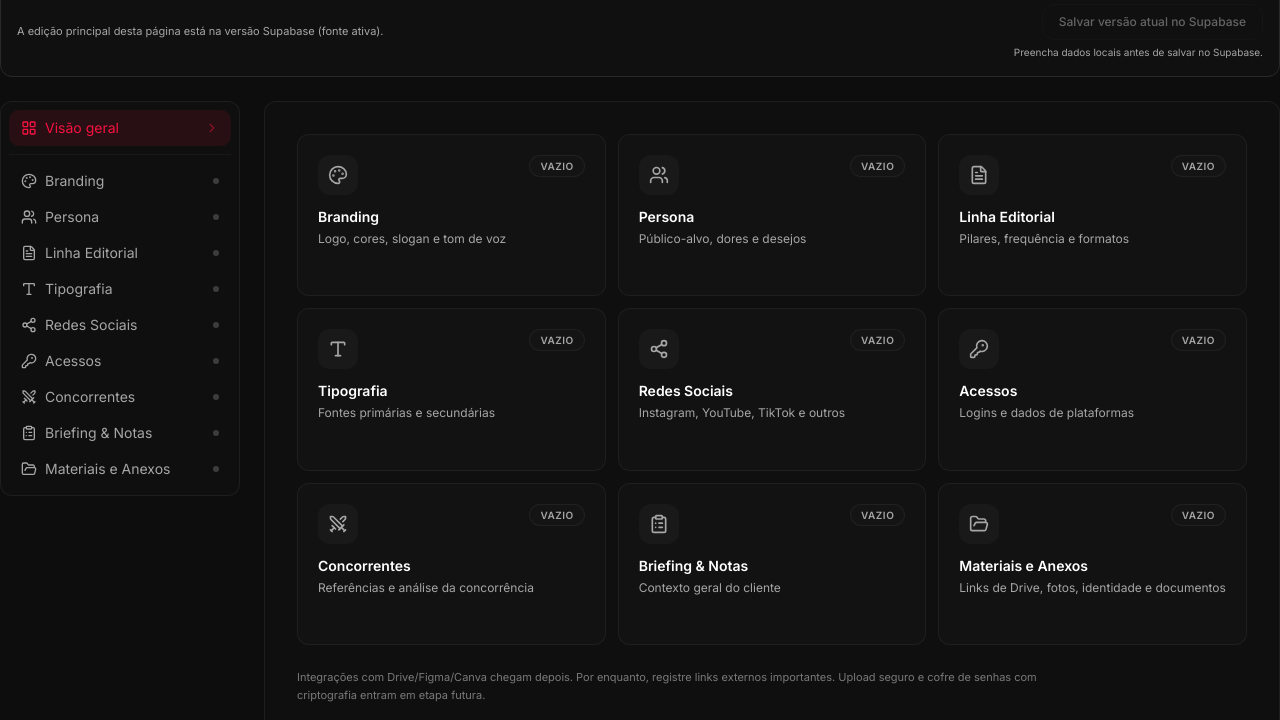
Test case: ClientTechnicalSheet — G82 (cliente só-nuvem, id uuid) › [FP2] seção Acessos avisa que os acessos ficam só neste dispositivo; salvar um acesso grava no armazenamento LOCAL e a senha/`accesses` nunca vão no payload
(page scrolled)
Step 1. Click the button "Acessos" → x=120, y=361, box x1=9 y1=343 x2=231 y2=379
(page scrolled)
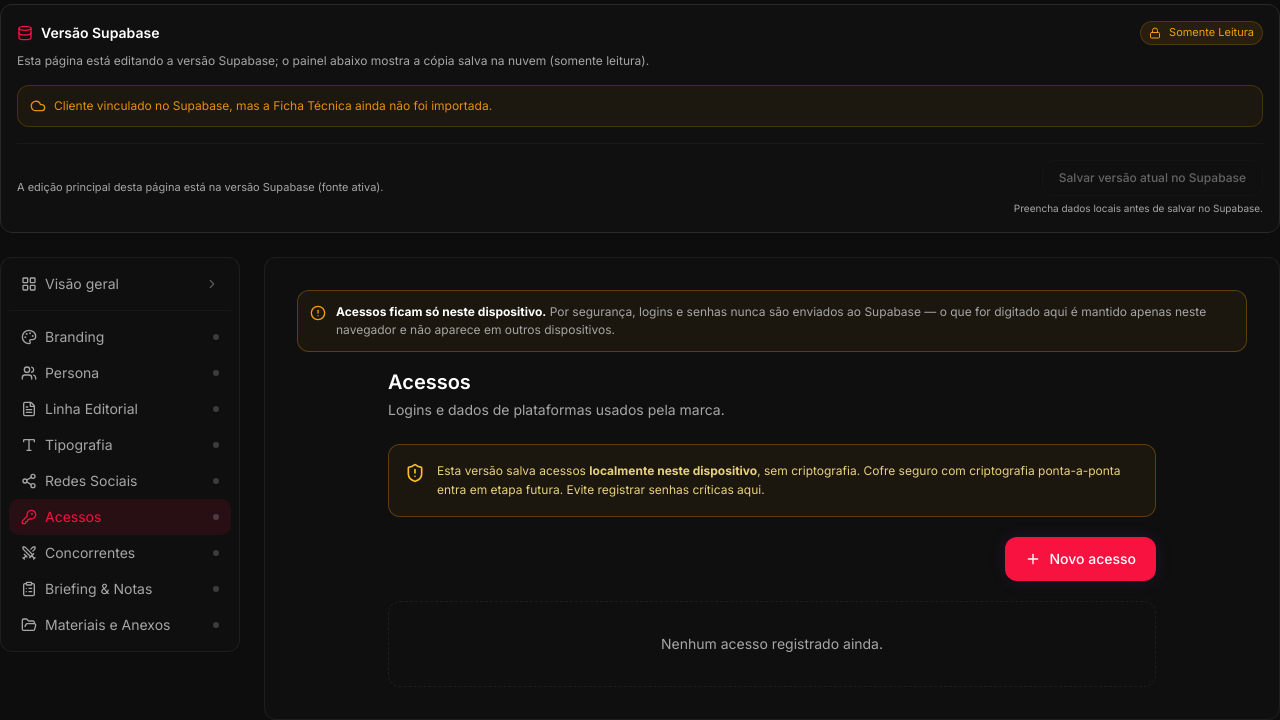
Result: the element that starts with "Acessos ficam só neste dispositivo." is shown at x1=336 y1=304 x2=546 y2=319
Step 2. Click the button "Novo acesso" → x=1081, y=559, box x1=1006 y1=537 x2=1156 y2=581
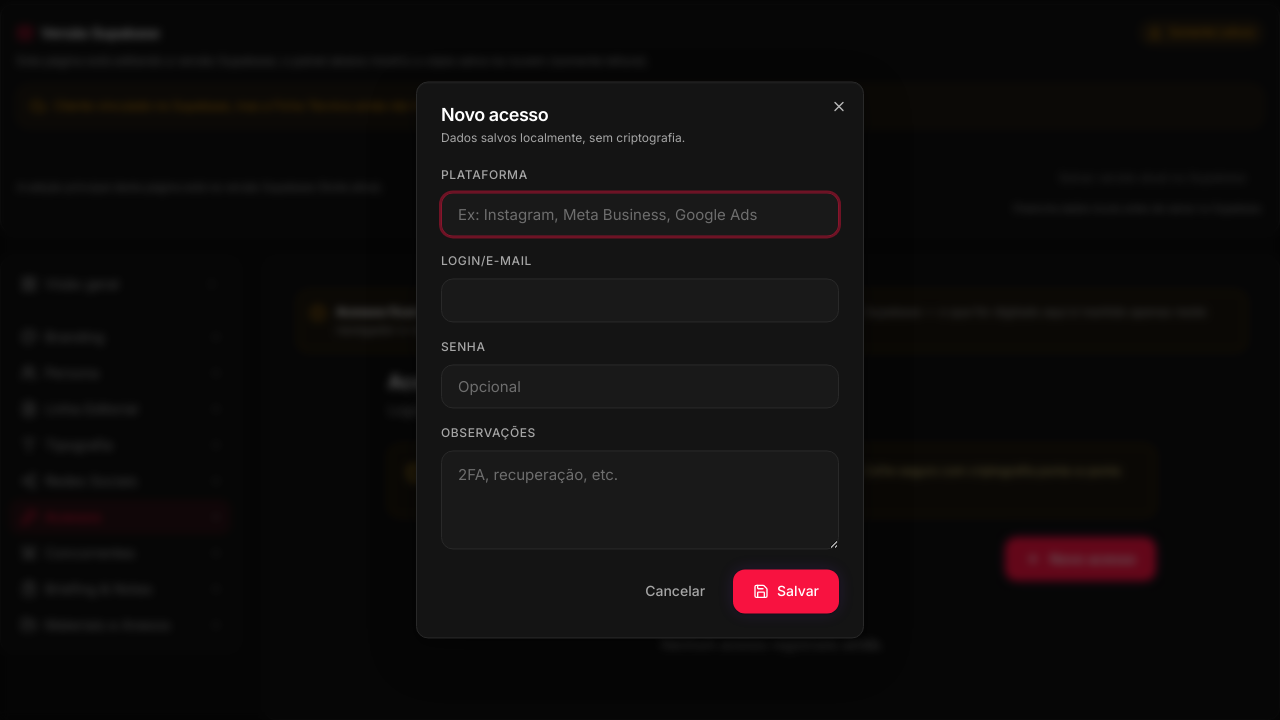
Step 3. Type "Instagram" into the field with placeholder "Ex: Instagram, Meta Business, Google Ads" → x=640, y=214, box x1=441 y1=192 x2=839 y2=236
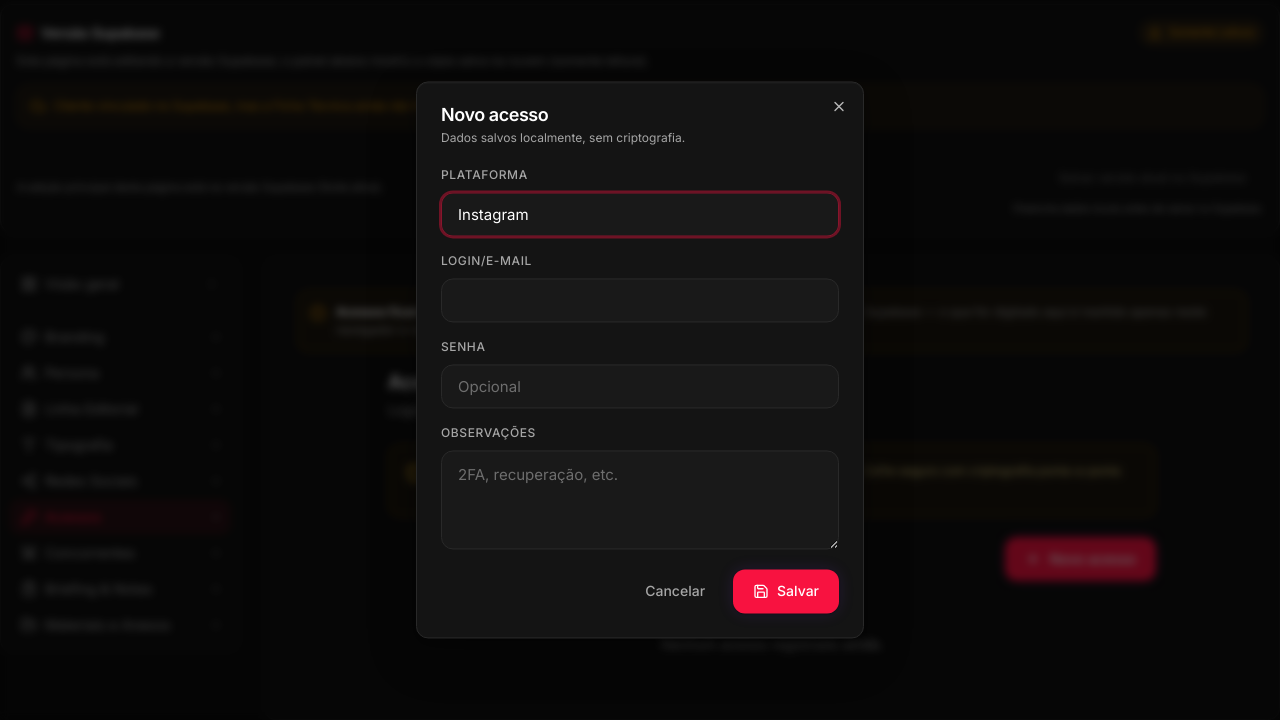
Step 4. Click the button "Salvar" → x=786, y=592, box x1=733 y1=570 x2=839 y2=614
(page scrolled)
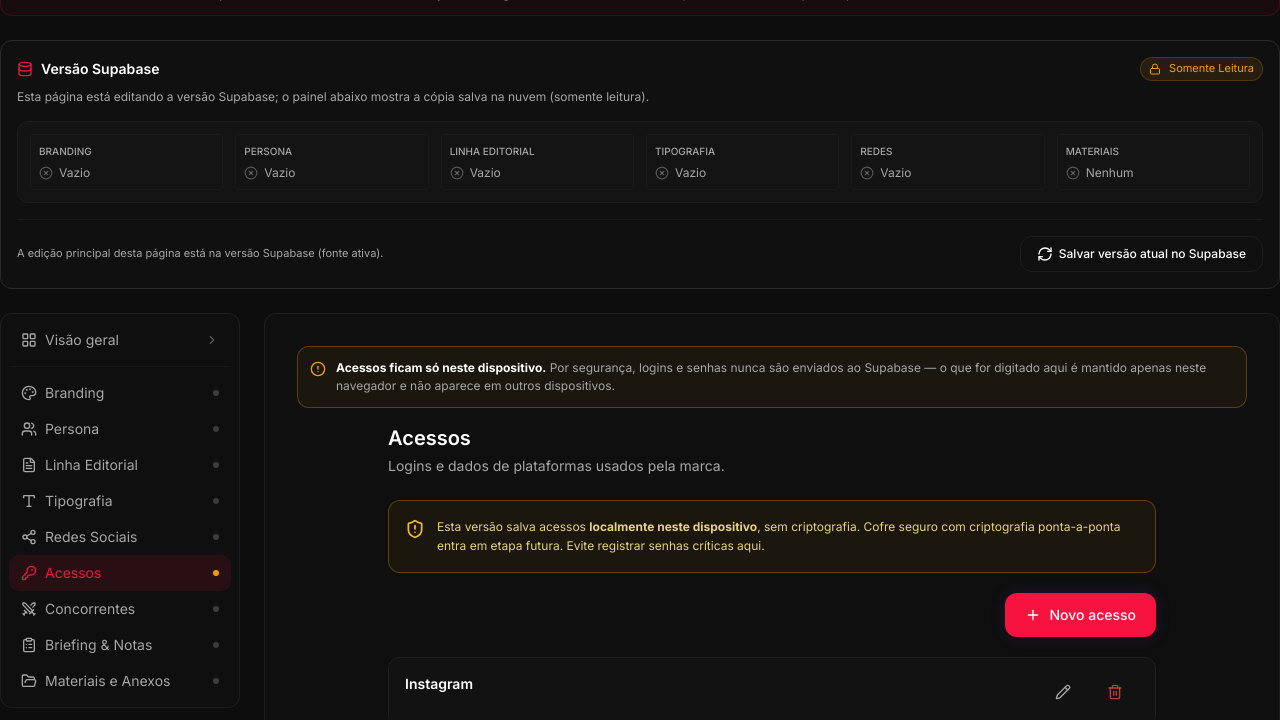
Result: the text "Instagram" is shown at x1=405 y1=675 x2=473 y2=692
